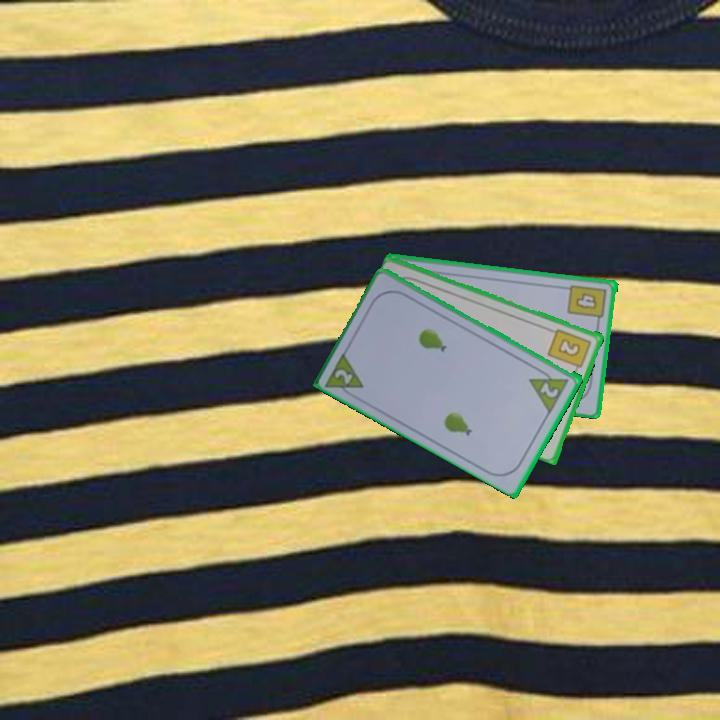2b: (545, 325, 594, 375)
2p: (526, 363, 573, 415), (331, 365, 356, 387)
4b: (565, 281, 610, 327)
